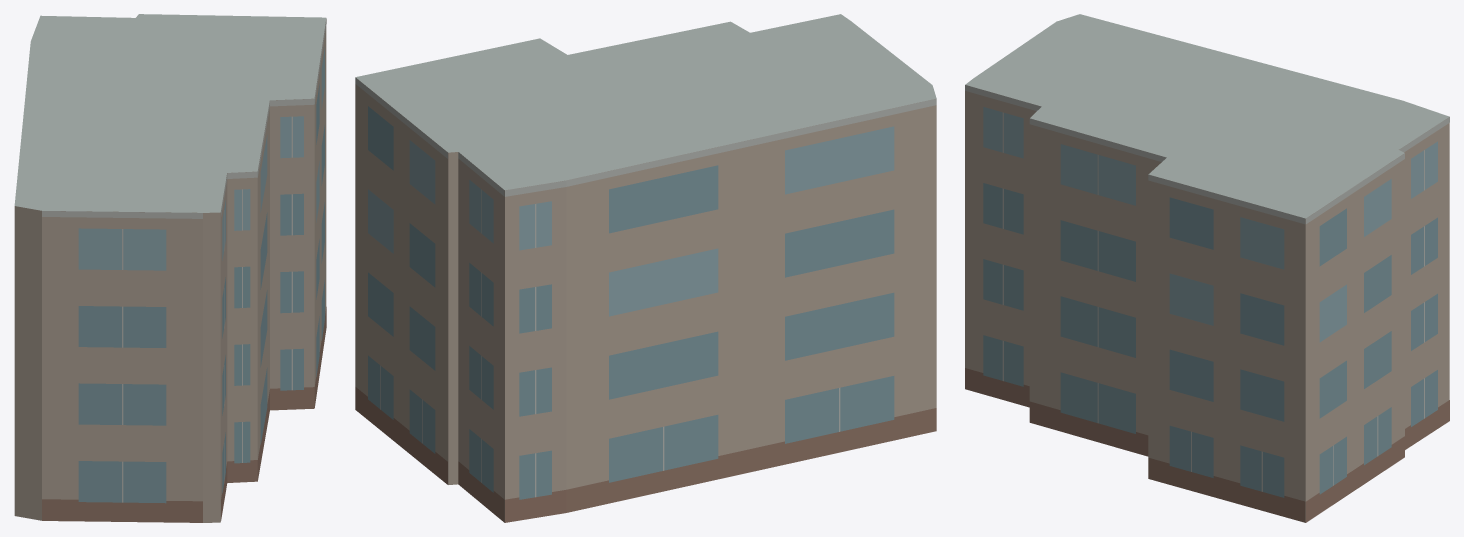
The model's file is survey-upis-32691589.glb.
3 renders of one model, left to right at view 1: azimuth 30°, elevation 25°; view 2: azimuth 150°, elevation 25°; view 3: azimuth 270°, elevation 25°, orthographic. The views are drawn at different scales.
Visible parts, largest first — view 1: survey-upis-32691589.tmp; view 2: survey-upis-32691589.tmp; view 3: survey-upis-32691589.tmp.
Boxes of the visible parts, x1=… form: survey-upis-32691589.tmp: x1=14, y1=14, x2=326, y2=522; survey-upis-32691589.tmp: x1=355, y1=14, x2=936, y2=522; survey-upis-32691589.tmp: x1=965, y1=14, x2=1449, y2=522.
Bounding box in the file's own units: 17.88 × 12.4 × 17.9.
